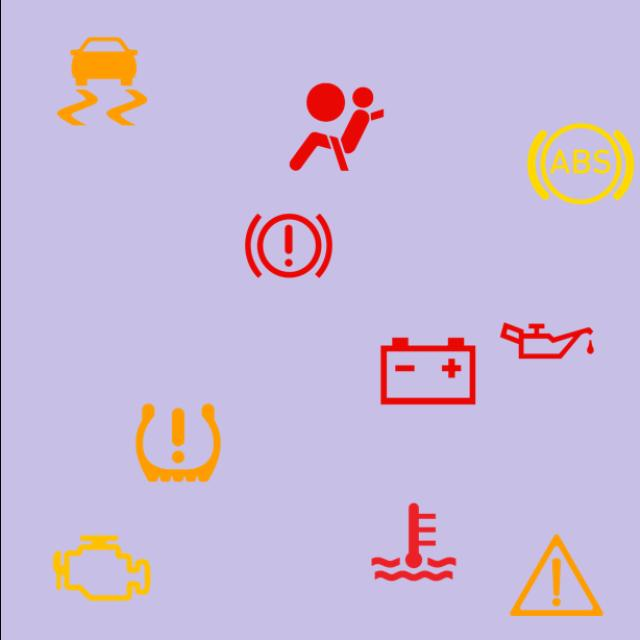Anti Lock Braking System: (522, 106, 638, 222)
Braking System Issue: (230, 188, 346, 304)
Charging System Issue: (370, 313, 486, 429)
Check Engine: (43, 509, 159, 626)
Electronic Stability Problem -ESP-: (43, 24, 159, 140)
Engine Overheating Warning Light: (355, 484, 471, 600)
Low Engine Oil Warning Light: (488, 282, 604, 400)
Low Tire Pressure Warning Light: (119, 385, 235, 501)
Master warning light: (498, 518, 614, 634)
SRS-Airbag: (277, 69, 393, 185)
